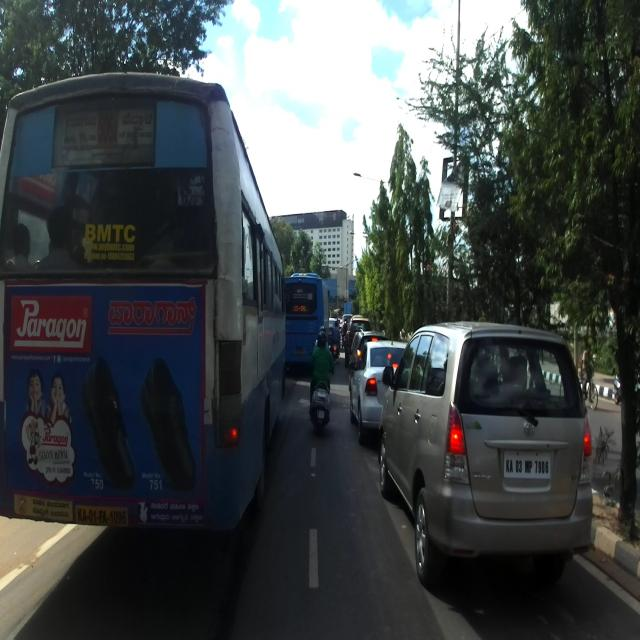Car_Chevrolet: (346, 327, 388, 391)
Car_Toyota: (378, 320, 593, 586)
Car_Volkswagen: (348, 340, 410, 446)
bus: (0, 70, 287, 530), (283, 271, 330, 375)
motorcycle: (612, 372, 623, 406)
scooter: (307, 364, 334, 436)
